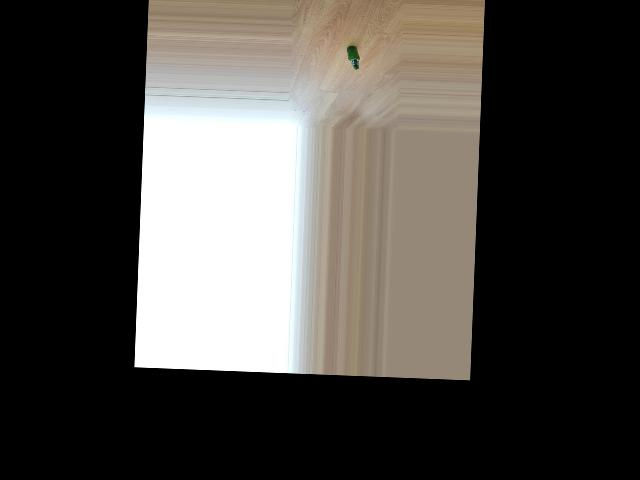beer: (345, 45, 360, 69)
